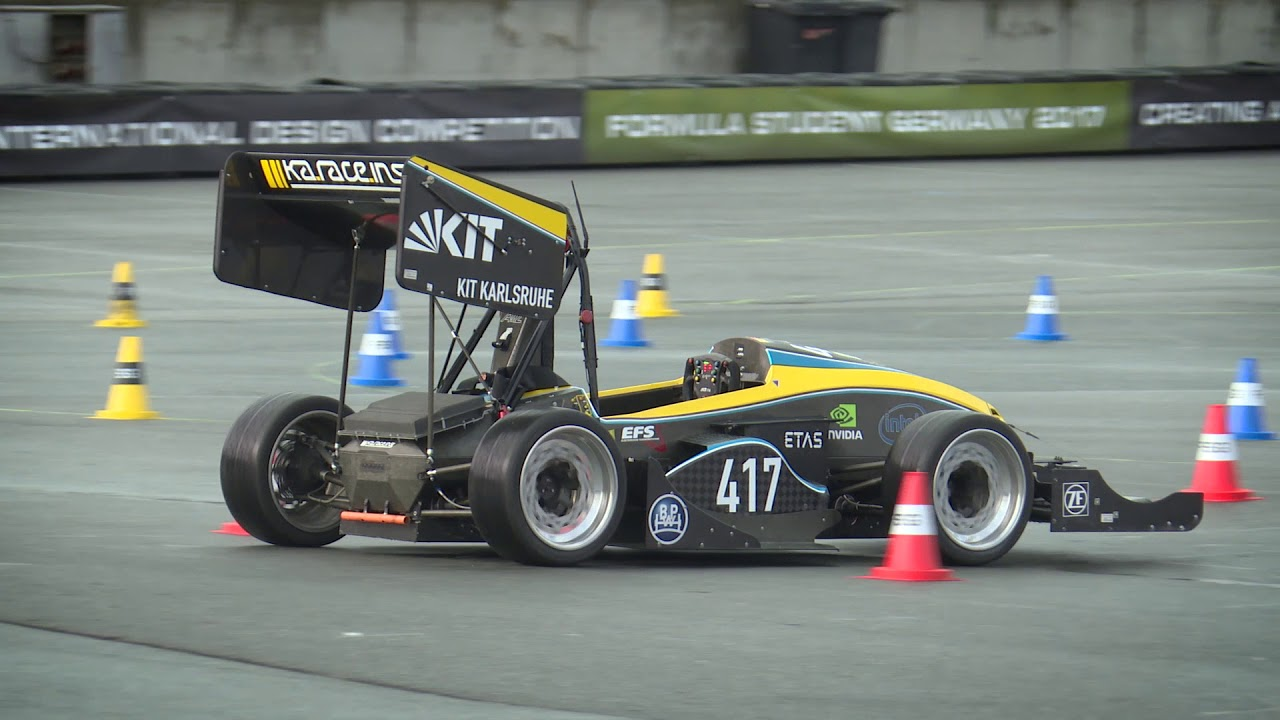cone: (865, 472, 960, 589), (1172, 404, 1258, 506), (82, 326, 167, 428), (1211, 355, 1277, 445), (85, 255, 155, 331), (346, 309, 407, 394), (1009, 267, 1070, 350), (626, 248, 687, 316), (597, 282, 655, 353), (363, 284, 411, 355)
